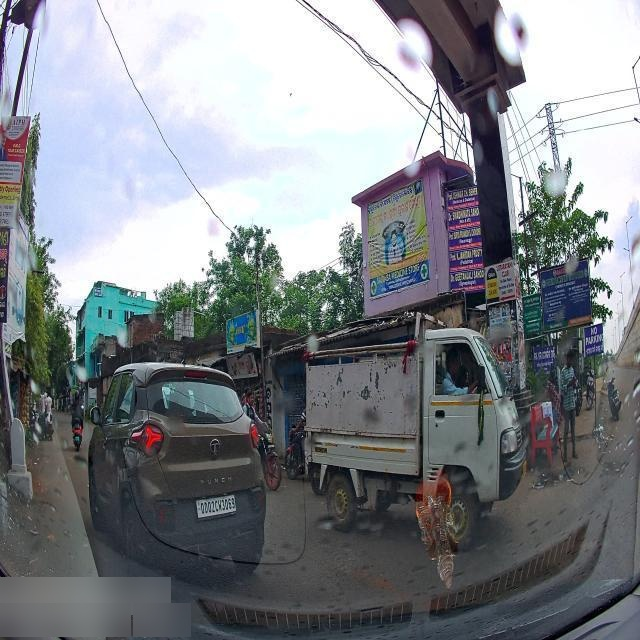pothole: (535, 467, 566, 488)
